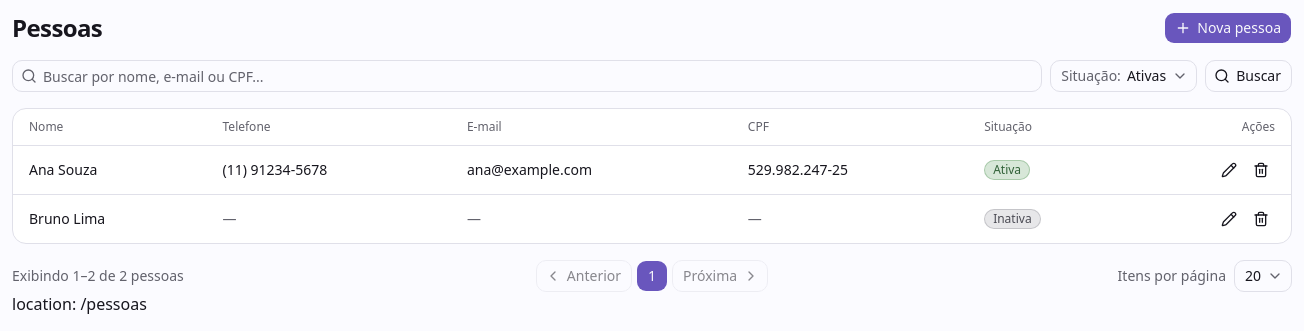
ClientListPage › lists everyone again when the search is submitted blank
Expected: the link "Ana Souza" is shown, [29,160,97,179]
Type "bruno" into the field named "Buscar pessoas por nome, e-mail ou CPF".
click(539, 76); type("bruno")  # box [37,60,1041,92]
Then press Enter
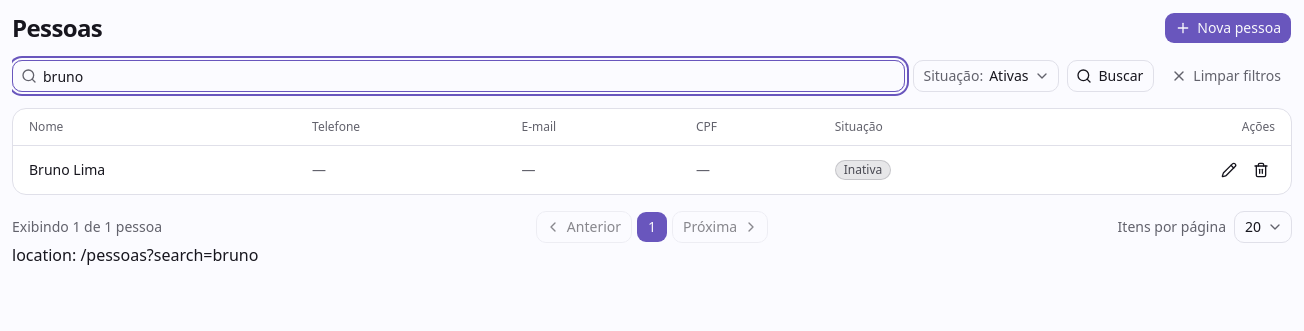
Expected: the link "Ana Souza" is gone
Clear the field named "Buscar pessoas por nome, e-mail ou CPF" at (470, 76), box [37,60,904,92]
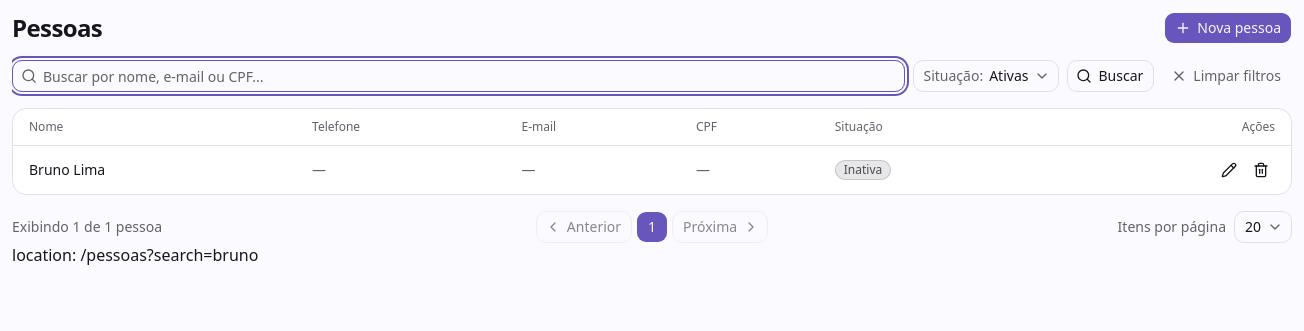
Press Enter
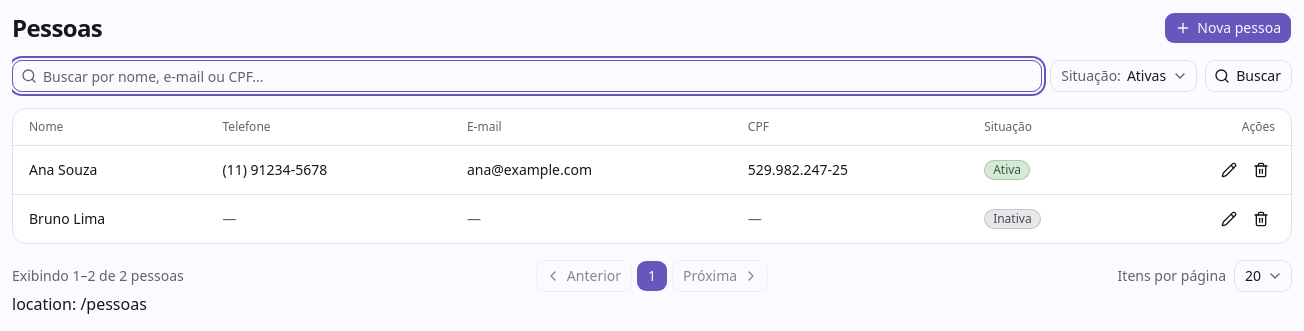
Expected: the link "Ana Souza" is shown, [29,160,97,179]
